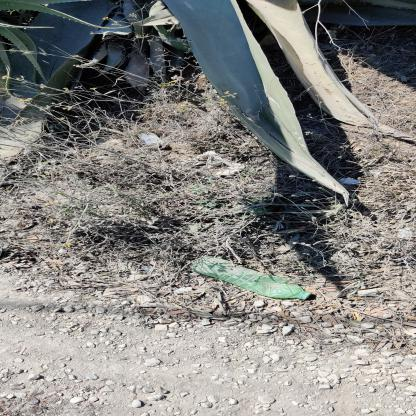plastik: (190, 258, 313, 302)
